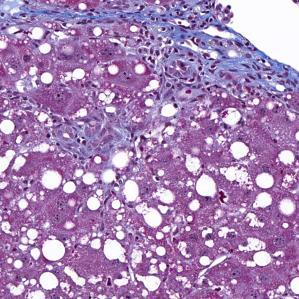fibrosis: (128, 6, 259, 108)
